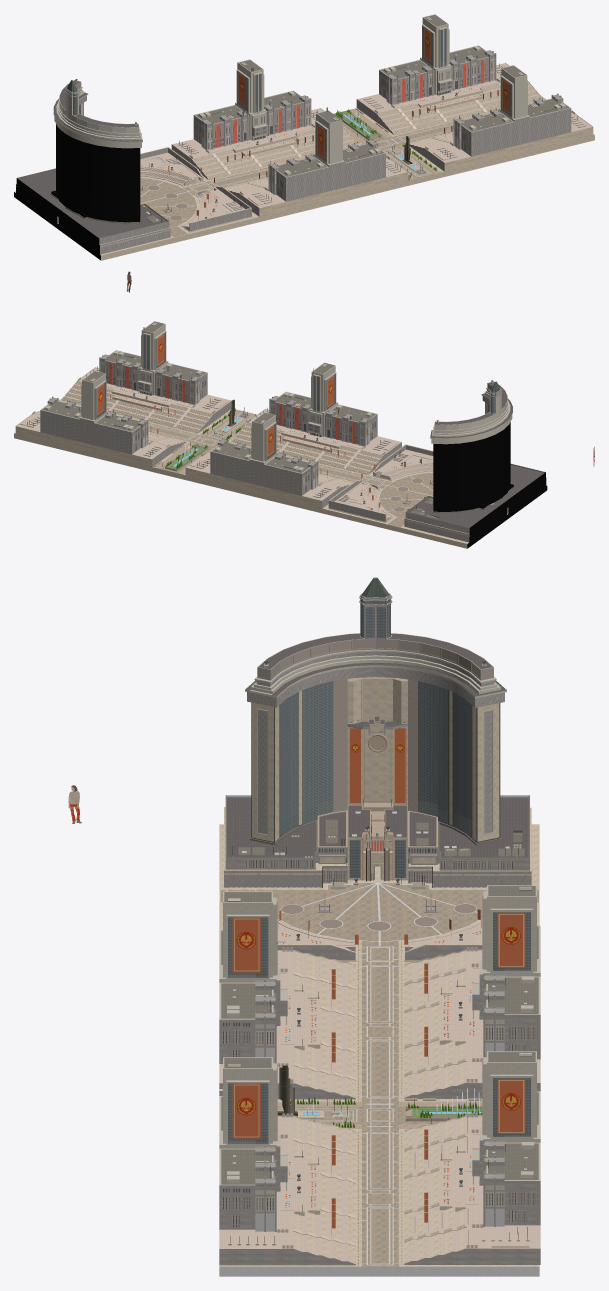
Rendered from street_network_pbr.glb.
The picture shows the model from 3 angles, top to bottom: view 1: azimuth 30°, elevation 25°; view 2: azimuth 150°, elevation 25°; view 3: azimuth 270°, elevation 25°; orthographic projection. The views are drawn at different scales.
Parts seen in each view (by area): view 1: Material3 (×15), Material2 (×2); view 2: Material3 (×14), Material2 (×2); view 3: Material3 (×17), Material2 (×2).
Boxes of the visible parts, x1=… form: Material3 (×15): x1=14, y1=14, x2=594, y2=284; Material2 (×2): x1=75, y1=27, x2=538, y2=292; Material3 (×14): x1=14, y1=321, x2=594, y2=548; Material2 (×2): x1=54, y1=334, x2=492, y2=510; Material3 (×17): x1=68, y1=577, x2=540, y2=1276; Material2 (×2): x1=72, y1=660, x2=534, y2=1228.
Size of the model in its own units: 1678 by 463 by 738.
Materials: 40 (26 with a texture image).
